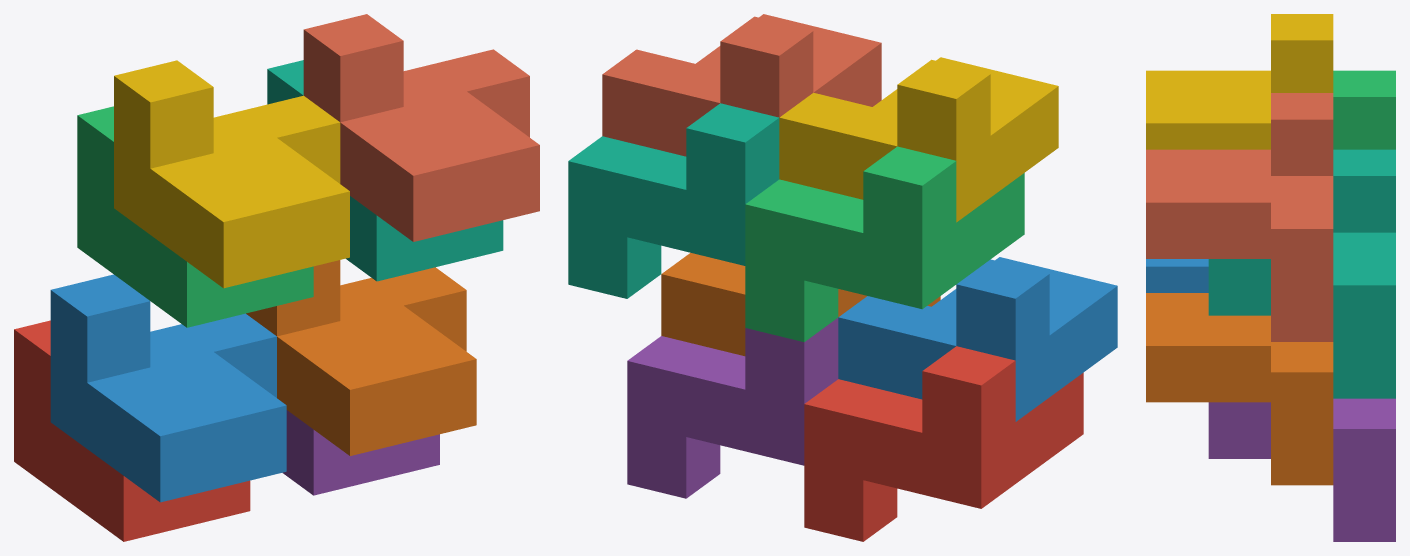
The model's file is tiling.obj.
3 views of the same model, side by side, from view 1: azimuth 30°, elevation 25°; view 2: azimuth 150°, elevation 25°; view 3: azimuth 270°, elevation 25° (orthographic). The views are drawn at different scales.
Visible parts, largest first — view 1: copy_1_domain_4, copy_1_domain_2, copy_1_domain_8, copy_1_domain_6, copy_1_domain_1, copy_1_domain_3, copy_1_domain_7, copy_1_domain_5; view 2: copy_1_domain_1, copy_1_domain_3, copy_1_domain_7, copy_1_domain_4, copy_1_domain_2, copy_1_domain_5, copy_1_domain_8, copy_1_domain_6; view 3: copy_1_domain_8, copy_1_domain_6, copy_1_domain_7, copy_1_domain_4, copy_1_domain_5, copy_1_domain_3, copy_1_domain_2.
Part boxes in pixels (<box>): copy_1_domain_4: <box>114,60,349,288</box>; copy_1_domain_2: <box>50,274,286,502</box>; copy_1_domain_8: <box>303,14,539,241</box>; copy_1_domain_6: <box>246,260,476,455</box>; copy_1_domain_1: <box>14,320,250,541</box>; copy_1_domain_3: <box>77,106,313,327</box>; copy_1_domain_7: <box>267,60,503,281</box>; copy_1_domain_5: <box>282,410,439,495</box>; copy_1_domain_1: <box>804,346,1083,541</box>; copy_1_domain_3: <box>745,146,1024,342</box>; copy_1_domain_7: <box>568,103,779,298</box>; copy_1_domain_4: <box>779,57,1058,222</box>; copy_1_domain_2: <box>838,257,1117,421</box>; copy_1_domain_5: <box>627,318,838,498</box>; copy_1_domain_8: <box>602,14,881,156</box>; copy_1_domain_6: <box>661,252,940,356</box>; copy_1_domain_8: <box>1146,93,1333,341</box>; copy_1_domain_6: <box>1146,293,1333,485</box>; copy_1_domain_7: <box>1208,149,1395,398</box>; copy_1_domain_4: <box>1146,14,1333,149</box>; copy_1_domain_5: <box>1208,398,1395,541</box>; copy_1_domain_3: <box>1333,70,1395,149</box>; copy_1_domain_2: <box>1146,259,1208,292</box>.
Size of the model in its own units: 7 by 7 by 4.
